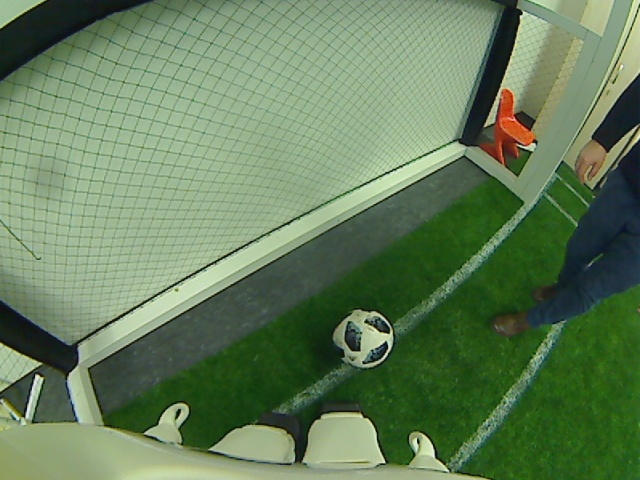ball: (332, 308, 395, 371)
